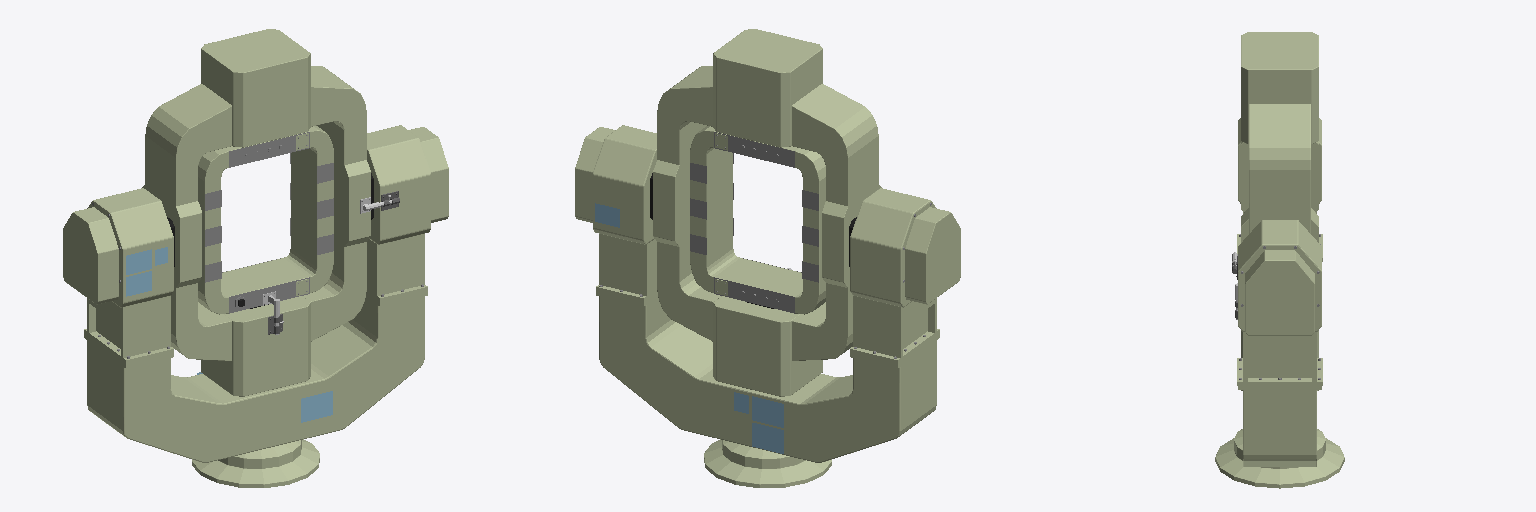
The model's file is 20GDWCJX.obj.
3 views of the same model, side by side, from view 1: azimuth 30°, elevation 25°; view 2: azimuth 150°, elevation 25°; view 3: azimuth 270°, elevation 25° (orthographic).
Parts seen in each view (by area): view 1: Metal_02_03, Metal_02_02, Metal_02_01, metal_03_01, Metal_02_04, Tex; view 2: Metal_02_03, Metal_02_02, Metal_02_01, metal_03_01, Metal_02_04, Tex; view 3: Metal_02_03, Metal_02_02, Metal_02_04.
Part boxes in pixels (x1,y1,x2,y2): Metal_02_03: (63,125,448,462); Metal_02_02: (142,29,370,396); Metal_02_01: (198,126,333,314); metal_03_01: (205,132,333,313); Metal_02_04: (192,439,319,487); Tex: (126,247,332,422); Metal_02_03: (575,125,960,462); Metal_02_02: (653,29,881,396); Metal_02_01: (690,126,825,314); metal_03_01: (690,132,818,313); Metal_02_04: (704,439,831,487); Tex: (595,203,783,453); Metal_02_03: (1237,118,1322,466); Metal_02_02: (1241,32,1318,390); Metal_02_04: (1215,429,1344,488).
Bounding box in the file's own units: 147 × 164 × 47.03.